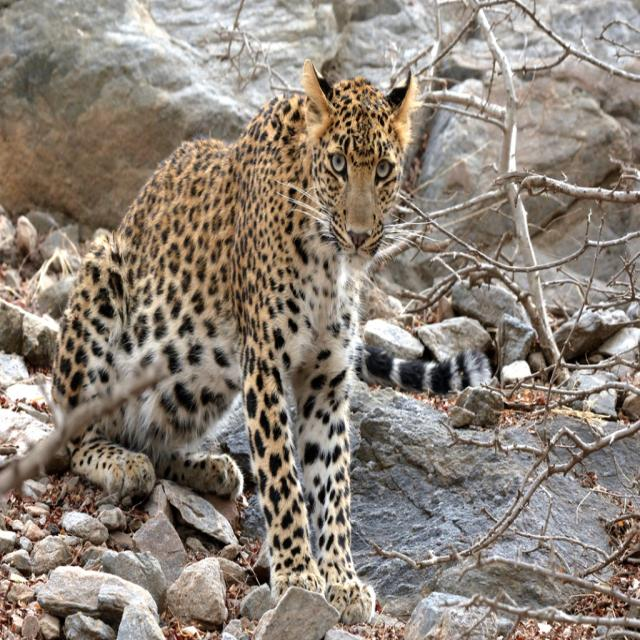Leopard: (80, 67, 416, 618)
